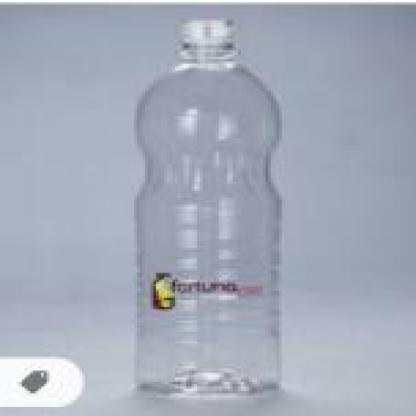Glass Bottle: (137, 20, 282, 396)
